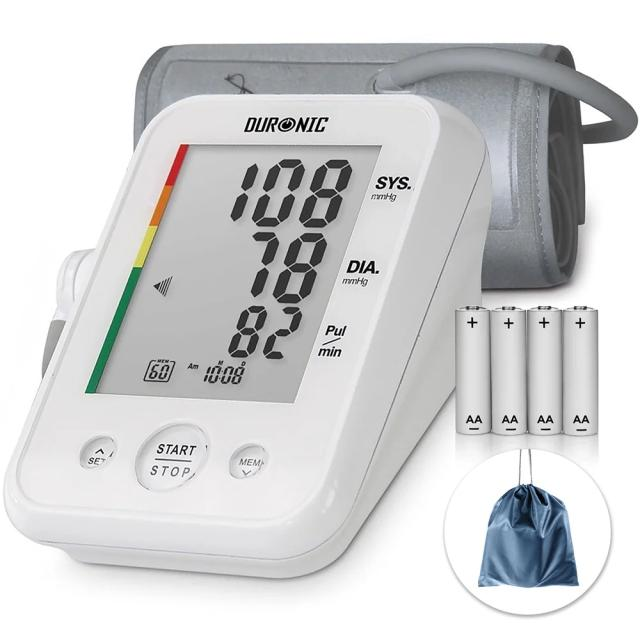dia: (236, 224, 335, 309)
pul: (205, 298, 307, 368)
ssd: (85, 80, 383, 459)
sys: (215, 157, 361, 227)
